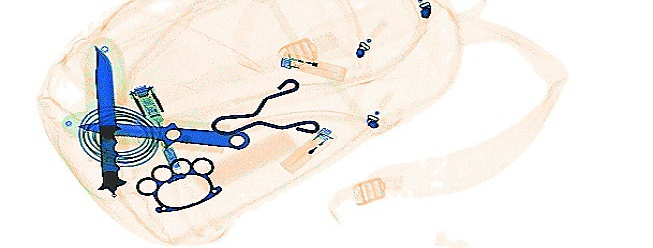knife: (89, 42, 128, 197), (74, 117, 250, 150)
lighter: (276, 124, 336, 174), (276, 50, 347, 82)
slingshot: (207, 75, 318, 139)
